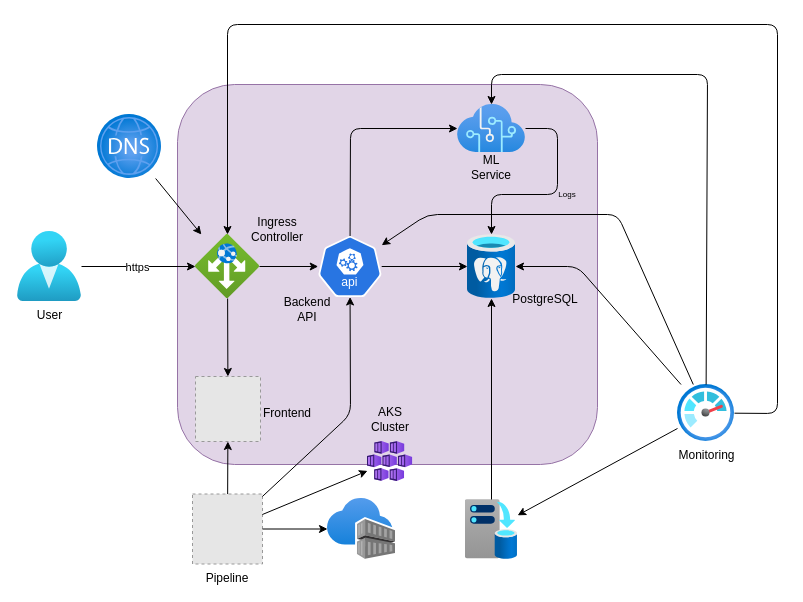
Image size: 803x602. Some labels were removed from this diagram. Grey dashed boxes stand in for pictures. The centre of each missing label's shape, as x and y in pixels:
"Azure Container Registry" belongs at [361,528].
"Backup" belongs at [491,529].
